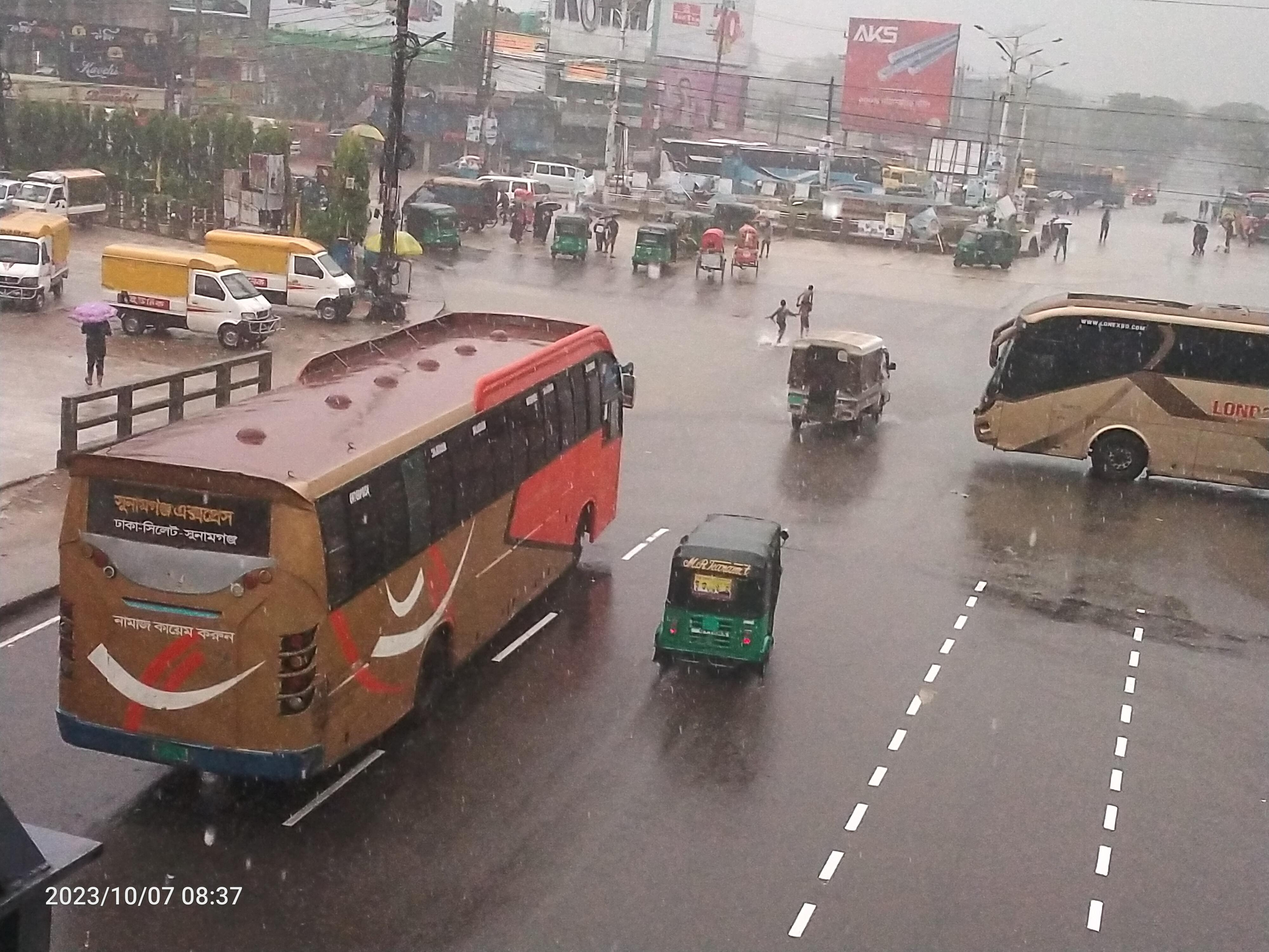Bus: (0, 296, 668, 805), (953, 267, 1269, 529), (718, 122, 893, 239), (634, 121, 733, 210), (1206, 187, 1269, 249)
Car: (85, 237, 288, 372), (764, 305, 918, 465), (190, 205, 367, 338), (0, 207, 100, 340), (3, 143, 121, 248), (510, 148, 586, 204), (689, 214, 743, 291), (725, 207, 772, 285)
Truck: (1018, 152, 1127, 213)
